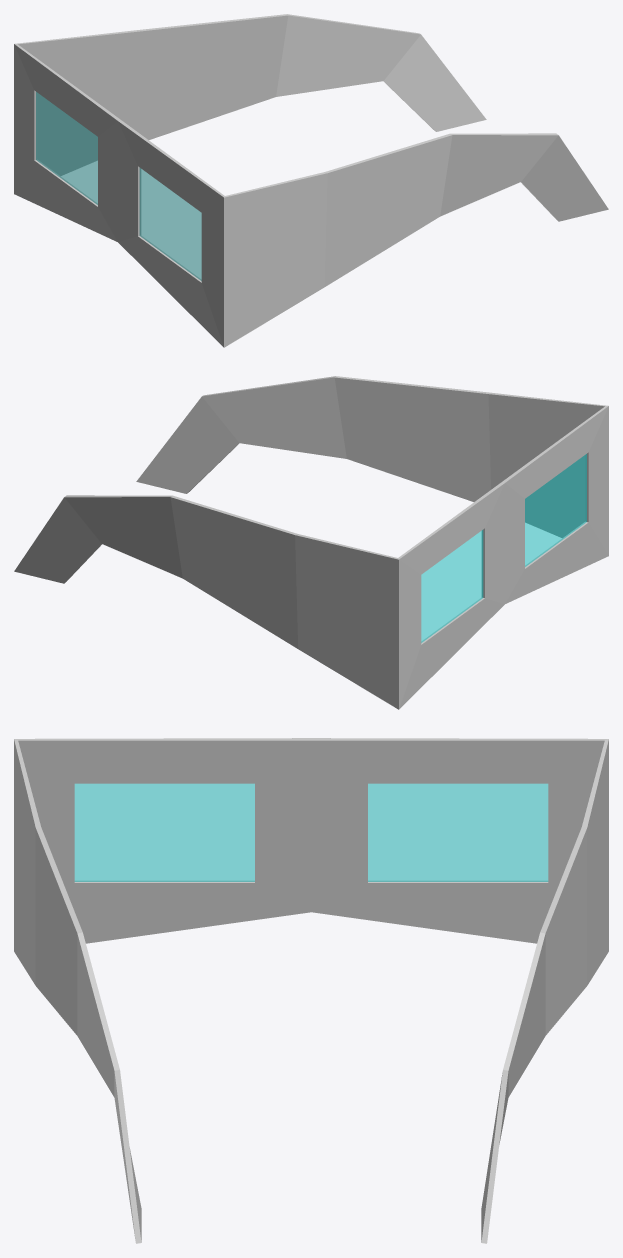
The model's file is Glasses.glb.
3 views of the same model, one above another, from view 1: azimuth 30°, elevation 25°; view 2: azimuth 150°, elevation 25°; view 3: azimuth 270°, elevation 25° (orthographic). The views are drawn at different scales.
Visible parts, largest first — view 1: Glasses; view 2: Glasses; view 3: Glasses.
Part boxes in pixels (<box>): Glasses: <box>14,14,608,347</box>; Glasses: <box>14,376,608,709</box>; Glasses: <box>14,738,608,1243</box>.
Size of the model in its own units: 3.11 by 1.04 by 2.64.
